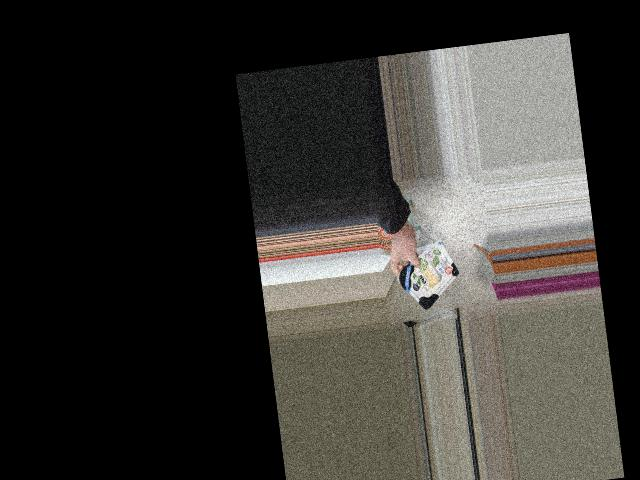cheese: (392, 242, 468, 311)
